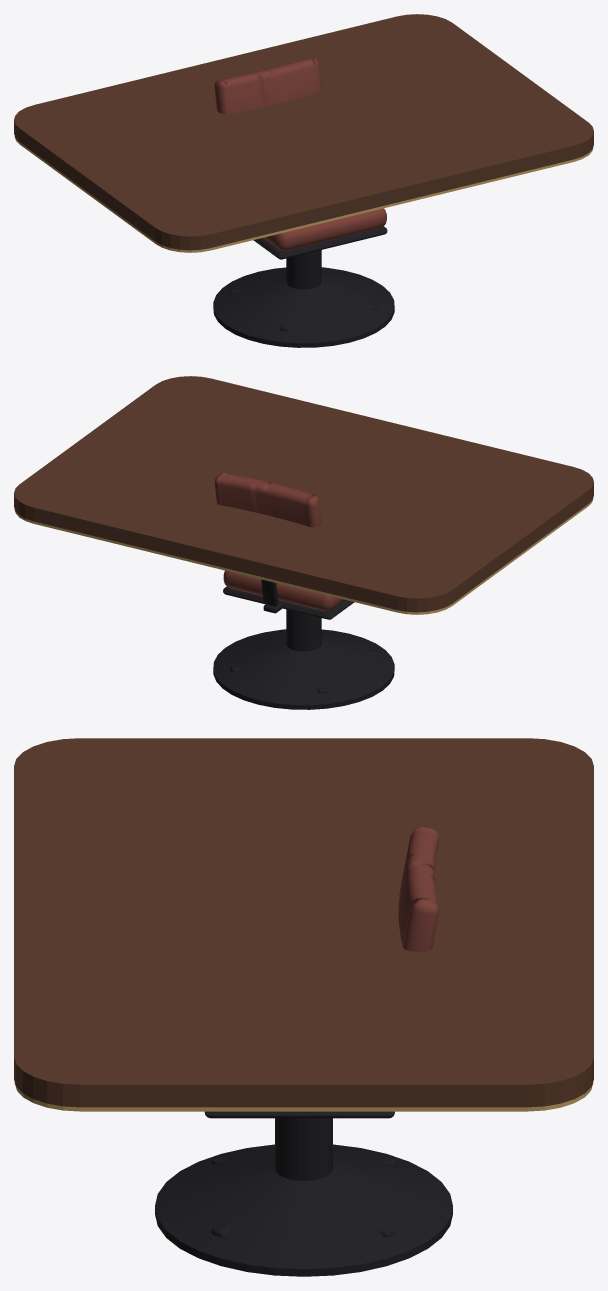
File: sala_tavoli.glb
3 views of the same model, one above another, from view 1: azimuth 30°, elevation 25°; view 2: azimuth 150°, elevation 25°; view 3: azimuth 270°, elevation 25° (orthographic). The views are drawn at different scales.
Parts seen in each view (by area): view 1: tavolo_carte, sedia_carte; view 2: tavolo_carte, sedia_carte; view 3: tavolo_carte, sedia_carte.
Boxes of the visible parts, x1,y1,x2,y2 form: tavolo_carte: (14,14,593,347); sedia_carte: (214,57,387,331); tavolo_carte: (14,376,593,709); sedia_carte: (214,473,377,693); tavolo_carte: (14,738,593,1276); sedia_carte: (204,827,439,1237).
Size of the model in its own units: 1.98 by 0.9343 by 1.4.
